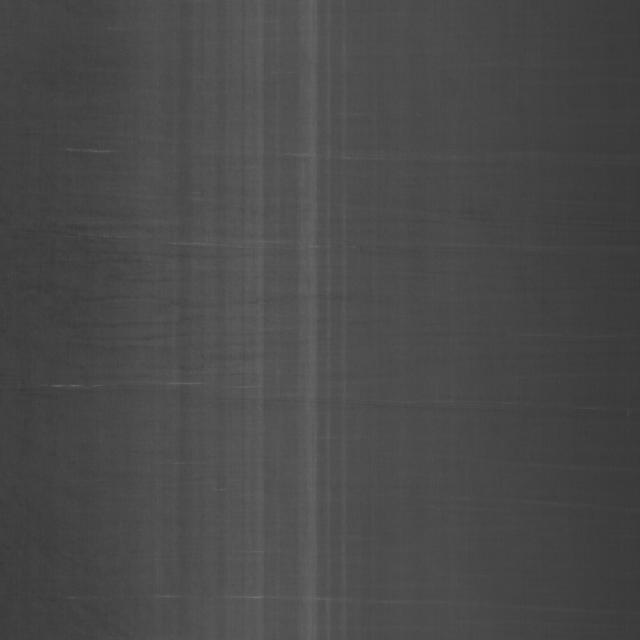punching_hole: (134, 33, 377, 609)
